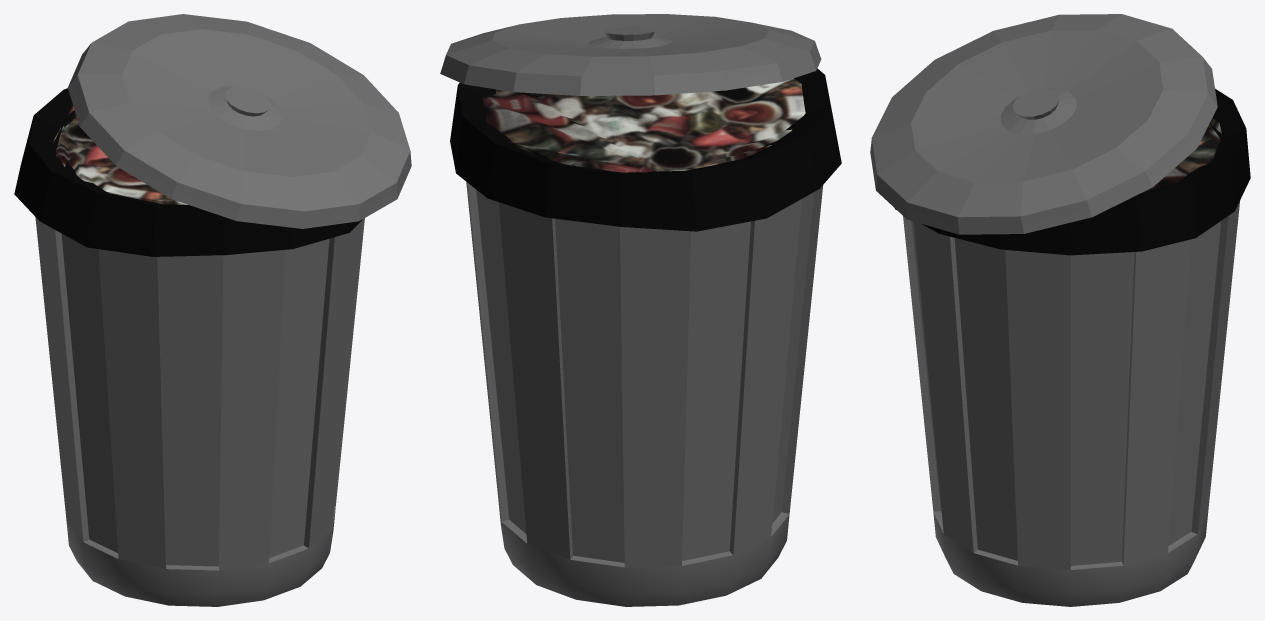
File: GarbageBin(%100).fbx
3 views of the same model, side by side, from view 1: azimuth 30°, elevation 25°; view 2: azimuth 150°, elevation 25°; view 3: azimuth 270°, elevation 25° (orthographic). The views are drawn at different scales.
Parts seen in each view (by area): view 1: GarbageBin, Cover, GarbageBag, GarbageBin(%100); view 2: GarbageBin, GarbageBag, Cover, GarbageBin(%100); view 3: GarbageBin, Cover, GarbageBag, GarbageBin(%100).
Part boxes in pixels (box(x1,y1,x2,y2)): GarbageBin: box(35, 217, 364, 606); Cover: box(68, 14, 411, 228); GarbageBag: box(14, 88, 362, 256); GarbageBin(%100): box(53, 106, 187, 204); GarbageBin: box(466, 182, 823, 606); GarbageBag: box(450, 68, 841, 231); Cover: box(440, 14, 821, 95); GarbageBin(%100): box(482, 78, 805, 172); GarbageBin: box(903, 201, 1239, 606); Cover: box(870, 14, 1217, 234); GarbageBag: box(894, 88, 1250, 255); GarbageBin(%100): box(1144, 118, 1221, 191).
Bounding box in the file's own units: 242 × 335 × 233.
3 materials, 1 textured.
